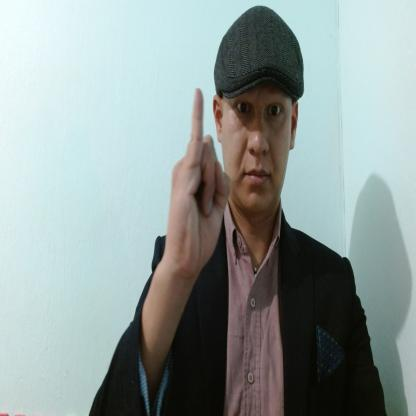I: (167, 84, 231, 271)
